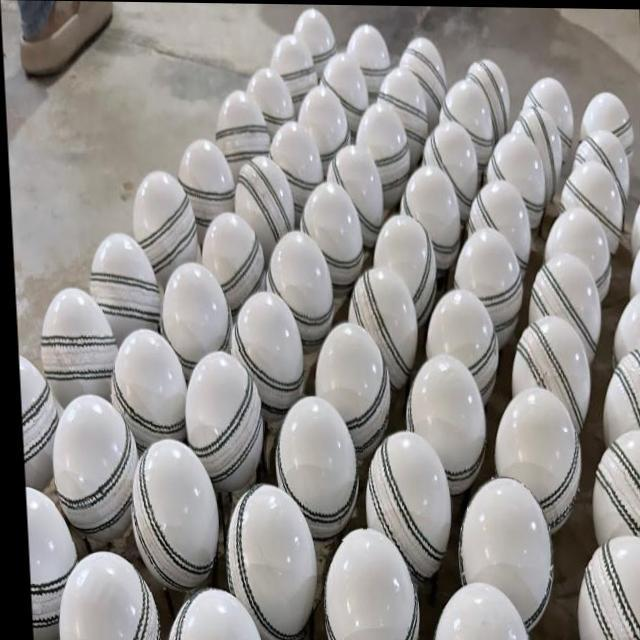cricket ball: (451, 476, 549, 633), (219, 481, 312, 640), (125, 438, 215, 592), (361, 429, 446, 583), (48, 394, 134, 542), (270, 396, 355, 540), (181, 349, 260, 490)
